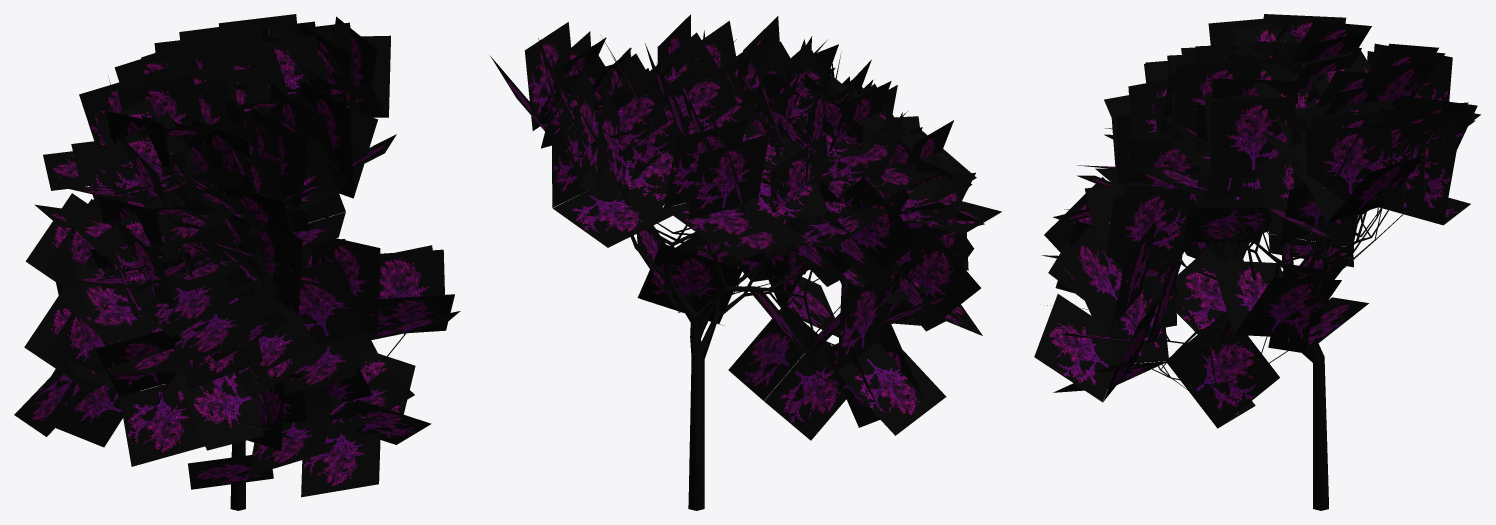
File: tree_1.glb
3 views of the same model, side by side, from view 1: azimuth 30°, elevation 25°; view 2: azimuth 150°, elevation 25°; view 3: azimuth 270°, elevation 25° (orthographic). The views are drawn at different scales.
Bounding box in the file's own units: 7.47 × 7.81 × 6.88.
2 materials, 1 textured.
